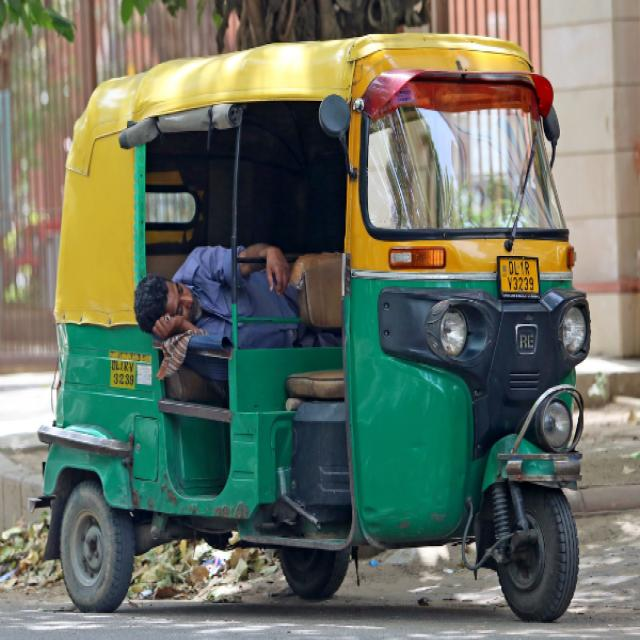autorickshaw: (39, 33, 590, 621)
